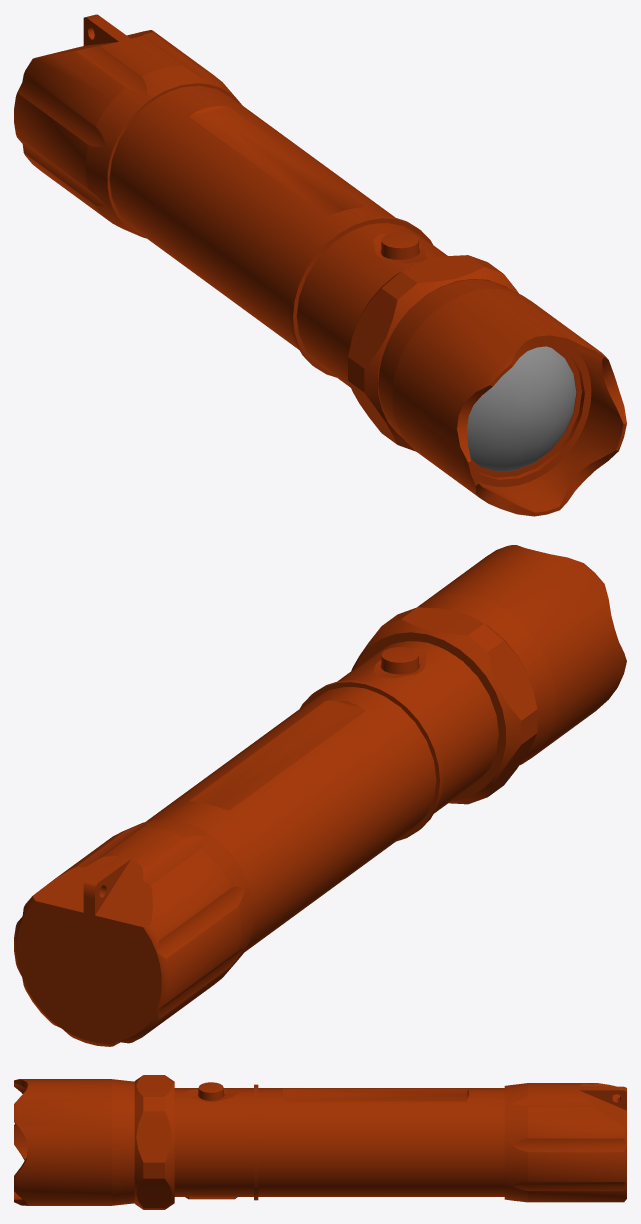
File: torchModel.dae
3 views of the same model, one above another, from view 1: azimuth 30°, elevation 25°; view 2: azimuth 150°, elevation 25°; view 3: azimuth 270°, elevation 25° (orthographic). The views are drawn at different scales.
Visible parts, largest first — view 1: p7_lo, p1_lo, p10_lo, p3_lo, p5_lo, p2_lo, p9_lo, p8_lo; view 2: p7_lo, p10_lo, p1_lo, p5_lo, p9_lo, p8_lo; view 3: p7_lo, p1_lo, p10_lo, p5_lo, p9_lo, p8_lo.
Boxes of the visible parts, bbox=[...] form: p7_lo: bbox=[109, 86, 447, 387]; p1_lo: bbox=[378, 279, 626, 516]; p10_lo: bbox=[14, 14, 242, 238]; p3_lo: bbox=[466, 346, 576, 471]; p5_lo: bbox=[348, 255, 518, 451]; p2_lo: bbox=[471, 346, 591, 486]; p9_lo: bbox=[290, 216, 432, 377]; p8_lo: bbox=[381, 232, 419, 259]; p7_lo: bbox=[146, 641, 498, 952]; p10_lo: bbox=[14, 819, 254, 1046]; p1_lo: bbox=[417, 545, 626, 764]; p5_lo: bbox=[351, 607, 537, 804]; p9_lo: bbox=[300, 680, 442, 841]; p8_lo: bbox=[381, 647, 419, 674]; p7_lo: bbox=[174, 1088, 504, 1196]; p1_lo: bbox=[14, 1079, 134, 1205]; p10_lo: bbox=[504, 1083, 626, 1202]; p5_lo: bbox=[134, 1075, 174, 1209]; p9_lo: bbox=[185, 1084, 258, 1200]; p8_lo: bbox=[198, 1082, 223, 1100].
Size of the model in its own units: 3.02 by 13.85 by 2.86.
